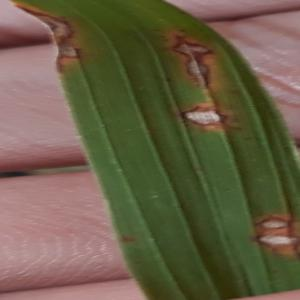Busuk Leher: (29, 4, 80, 69), (168, 30, 217, 90), (177, 99, 232, 140), (253, 233, 298, 255), (246, 213, 292, 233)
